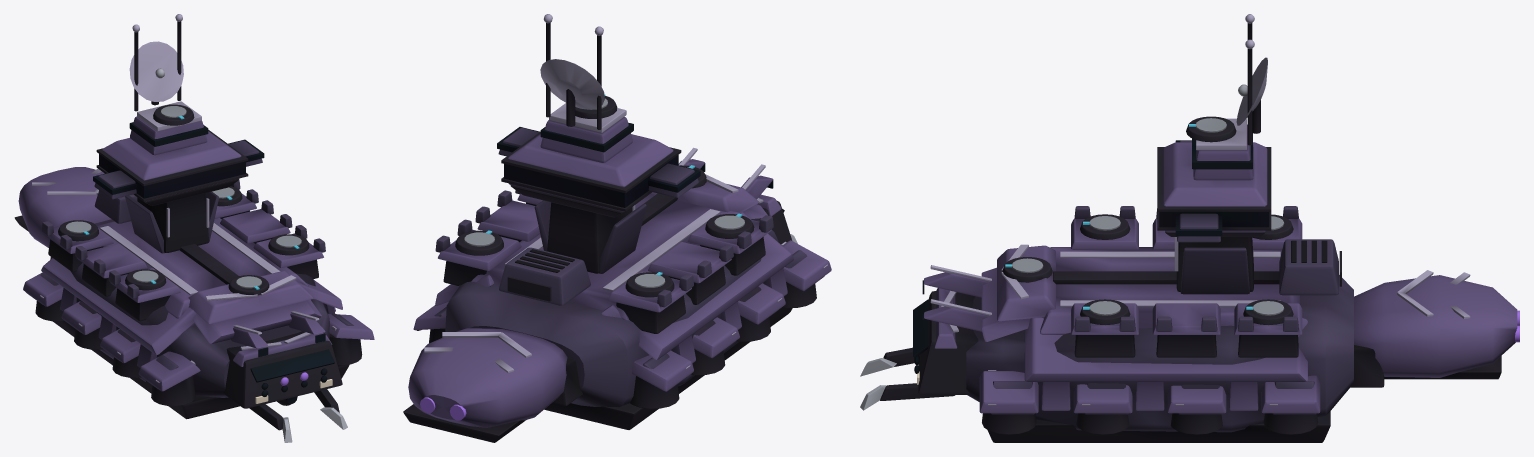
The model's file is ex_strider_11.glb.
The picture shows the model from 3 angles, left to right: view 1: azimuth 30°, elevation 25°; view 2: azimuth 150°, elevation 25°; view 3: azimuth 270°, elevation 25°; orthographic projection. The views are drawn at different scales.
Parts seen in each view (by area): view 1: body; view 2: body; view 3: body.
Boxes of the visible parts, x1,y1,x2,y2 form: body: (14,14,374,442); body: (403,14,831,442); body: (860,14,1519,442).
Bounding box in the file's own units: 8.63 × 11.79 × 19.
